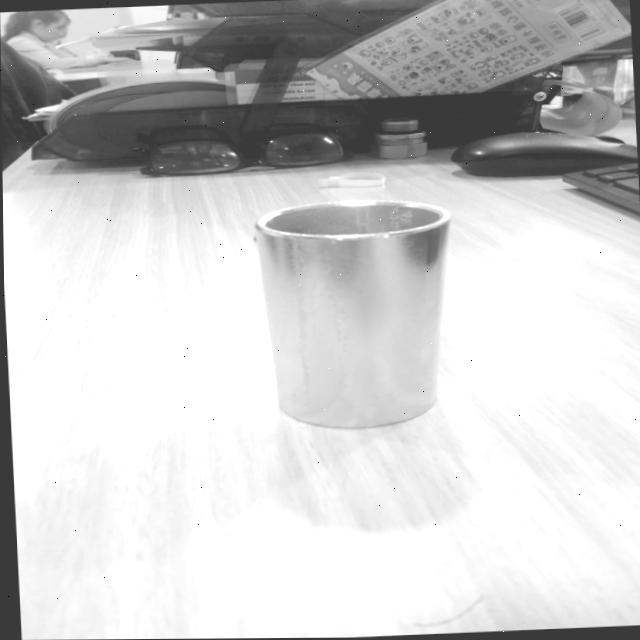Co_Lon: (246, 194, 450, 430)
